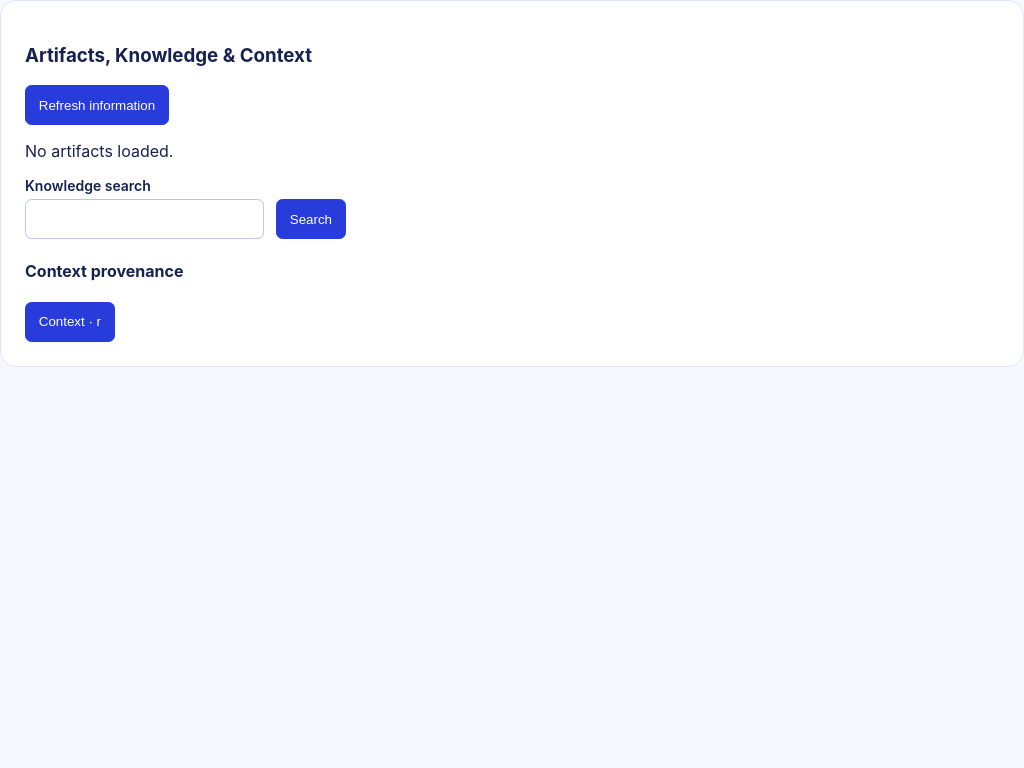
Test: shows immutable versions, scoped search, snapshot references
Click the button "Refresh information" at (97, 105), box top-left (25, 85), bottom-right (169, 125)
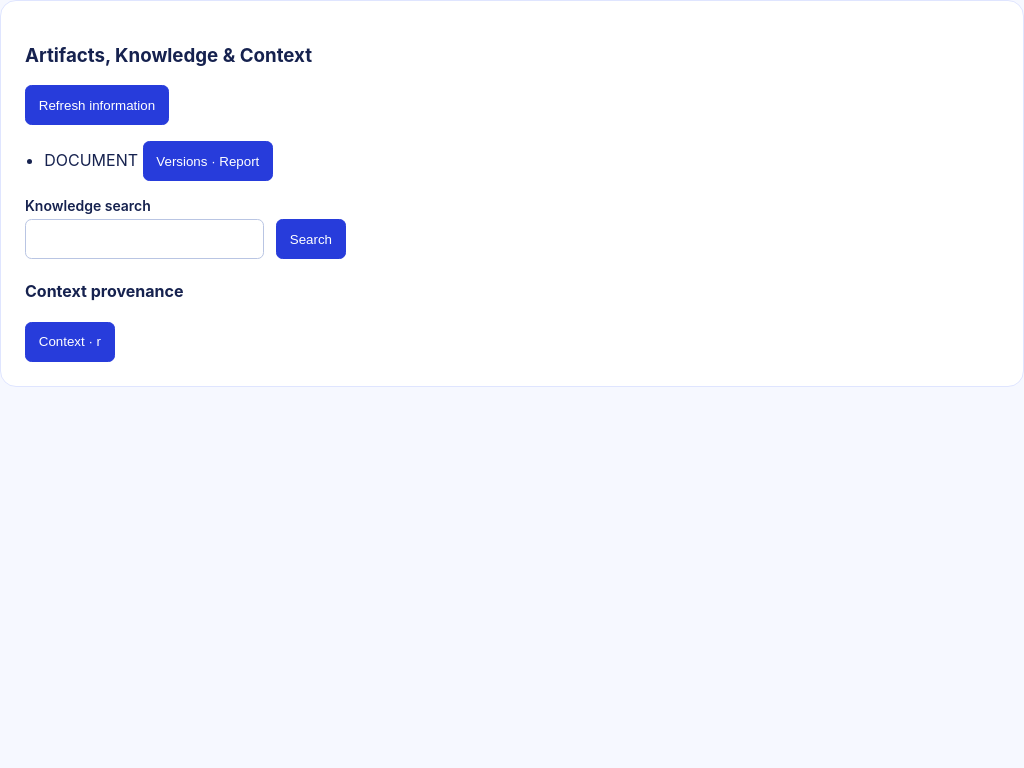
Click the button "Versions · Report" at (208, 161), box top-left (142, 141), bottom-right (273, 181)
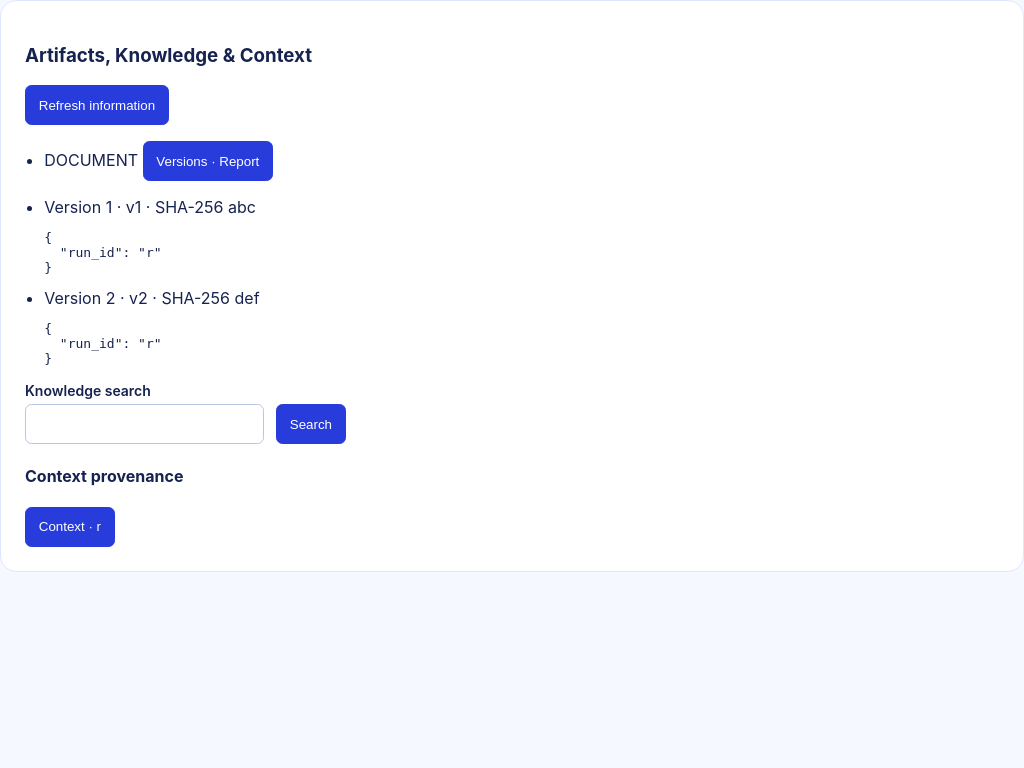
Expected: the list item "Version 1 · v1 · SHA-256 abc { \"run_id\": \"r\" }" is shown, top-left (44, 197), bottom-right (256, 275)
Expected: the list item "Version 2 · v2 · SHA-256 def { \"run_id\": \"r\" }" is shown, top-left (44, 288), bottom-right (260, 366)
Type "Guide" into the field labelled "Knowledge search" at (144, 424), box top-left (25, 404), bottom-right (264, 444)
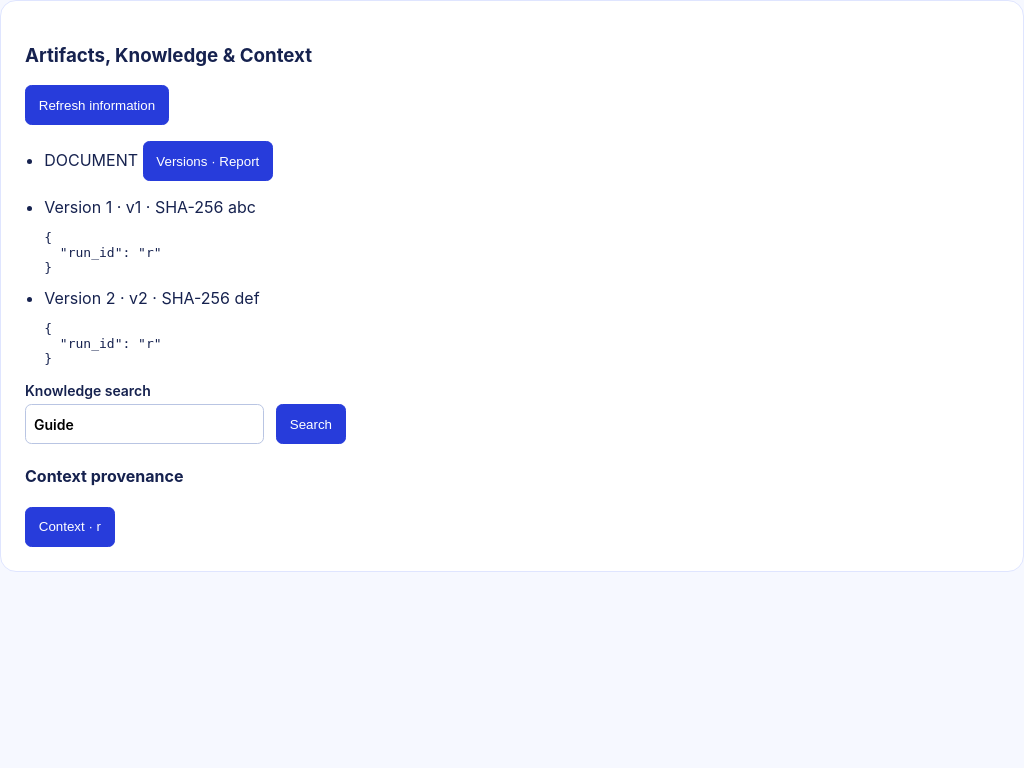
Click the button "Search" at (311, 424), box top-left (276, 404), bottom-right (346, 444)
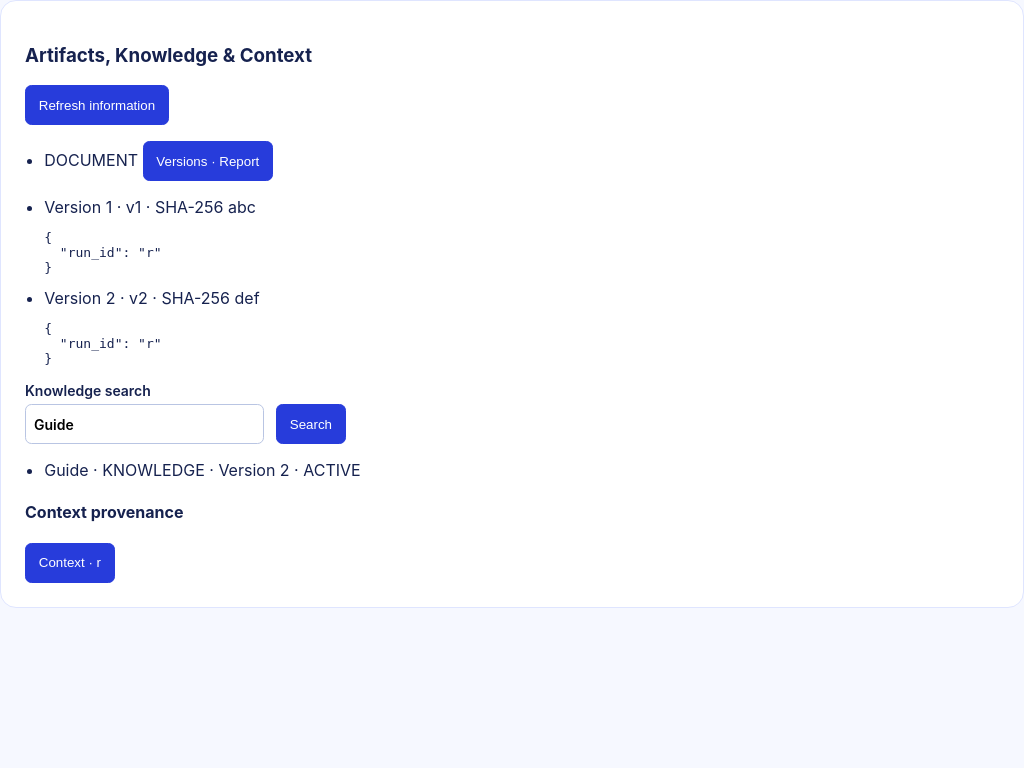
Expected: the list item "Guide · KNOWLEDGE · Version 2 · ACTIVE" is shown, top-left (44, 460), bottom-right (361, 480)
Click the button "Context · r" at (70, 563), box top-left (25, 543), bottom-right (115, 583)
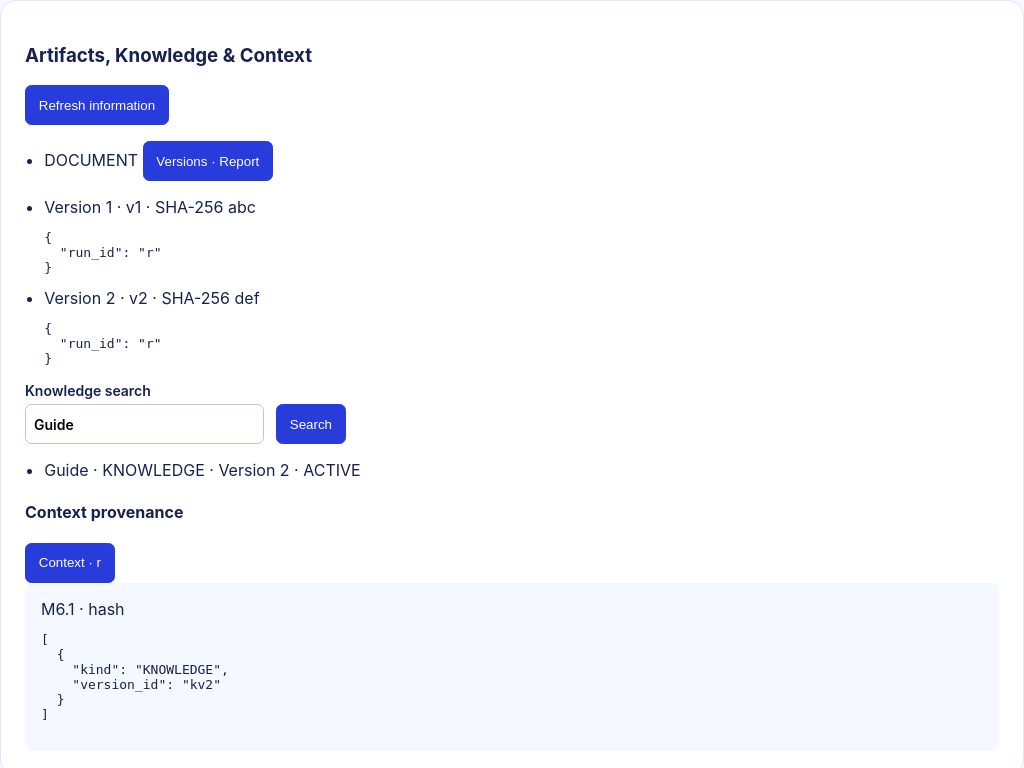
Expected: the text "[ { \"kind\": \"KNOWLEDGE\", \"version_id\": \"kv2\" } ]" is shown, top-left (41, 632), bottom-right (229, 722)
